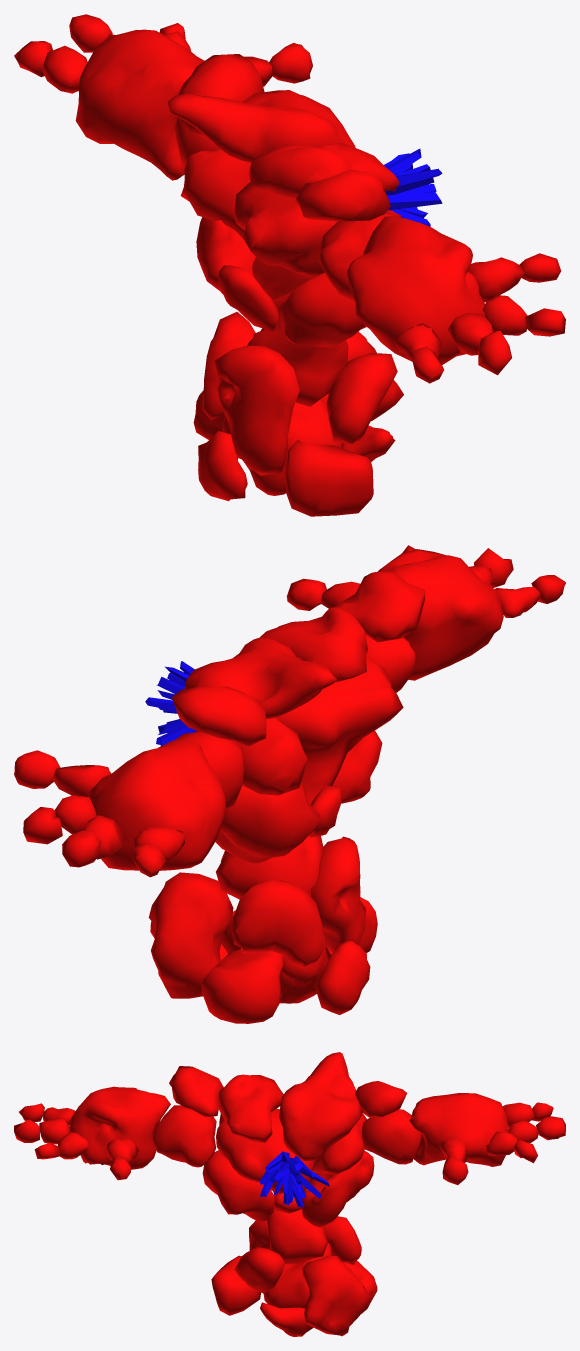
Rendered from Gollete.fbx.
3 views of the same model, one above another, from view 1: azimuth 30°, elevation 25°; view 2: azimuth 150°, elevation 25°; view 3: azimuth 270°, elevation 25° (orthographic). The views are drawn at different scales.
Parts seen in each view (by area): view 1: Element004_low002, Element017_low002, Element013_low002, Element012_low002, Element000_low002, Element001_low002, Element011_low002, Element037_low002, Element015_low002, Element010_low002, Element040_low002, Element036_low002 (+24 smaller); view 2: Element017_low002, Element004_low002, Element000_low002, Element009_low002, Element013_low002, Element002_low002, Element014_low002, Element007_low002, Element012_low002, Element011_low002, Element038_low002, Element040_low002 (+22 smaller); view 3: Element013_low002, Element004_low002, Element017_low002, Element009_low002, Element011_low002, Element003_low002, Element000_low002, Element015_low002, Element014_low002, Element036_low002, Element016_low002, Element040_low002 (+22 smaller).
Boxes of the visible parts, x1,y1,x2,y2 form: Element004_low002: [347, 216, 484, 364]; Element017_low002: [75, 29, 204, 180]; Element013_low002: [168, 90, 355, 162]; Element012_low002: [214, 345, 299, 475]; Element000_low002: [234, 182, 400, 300]; Element001_low002: [284, 439, 373, 516]; Element011_low002: [248, 142, 399, 198]; Element037_low002: [326, 353, 397, 443]; Element015_low002: [281, 272, 366, 347]; Element010_low002: [180, 148, 251, 238]; Element040_low002: [294, 169, 390, 221]; Element036_low002: [247, 294, 348, 406]; Element017_low002: [88, 739, 225, 870]; Element004_low002: [378, 549, 503, 680]; Element000_low002: [275, 657, 403, 804]; Element009_low002: [148, 872, 233, 998]; Element013_low002: [184, 637, 336, 718]; Element002_low002: [231, 880, 323, 968]; Element014_low002: [215, 781, 319, 863]; Element007_low002: [201, 949, 284, 1023]; Element012_low002: [311, 836, 365, 954]; Element011_low002: [260, 607, 368, 682]; Element038_low002: [171, 686, 266, 746]; Element040_low002: [333, 571, 425, 642]; Element013_low002: [279, 1052, 363, 1161]; Element004_low002: [69, 1086, 170, 1169]; Element017_low002: [409, 1093, 508, 1166]; Element009_low002: [302, 1256, 369, 1336]; Element011_low002: [218, 1074, 283, 1142]; Element003_low002: [153, 1105, 216, 1167]; Element000_low002: [216, 1108, 315, 1196]; Element015_low002: [202, 1150, 274, 1222]; Element014_low002: [301, 1151, 374, 1227]; Element036_low002: [266, 1194, 328, 1264]; Element016_low002: [362, 1109, 422, 1164]; Element040_low002: [169, 1066, 223, 1116].
Bounding box in the file's own units: 18241 × 28159 × 58281.
